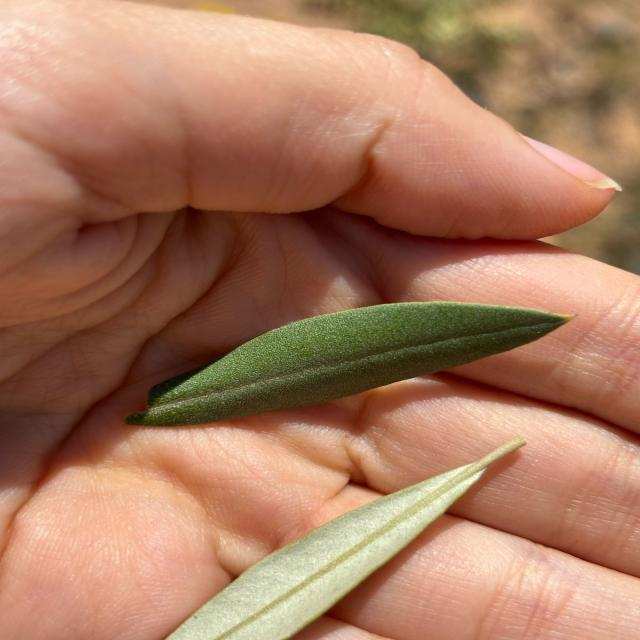Healthy: (166, 438, 525, 640), (126, 302, 572, 426)
